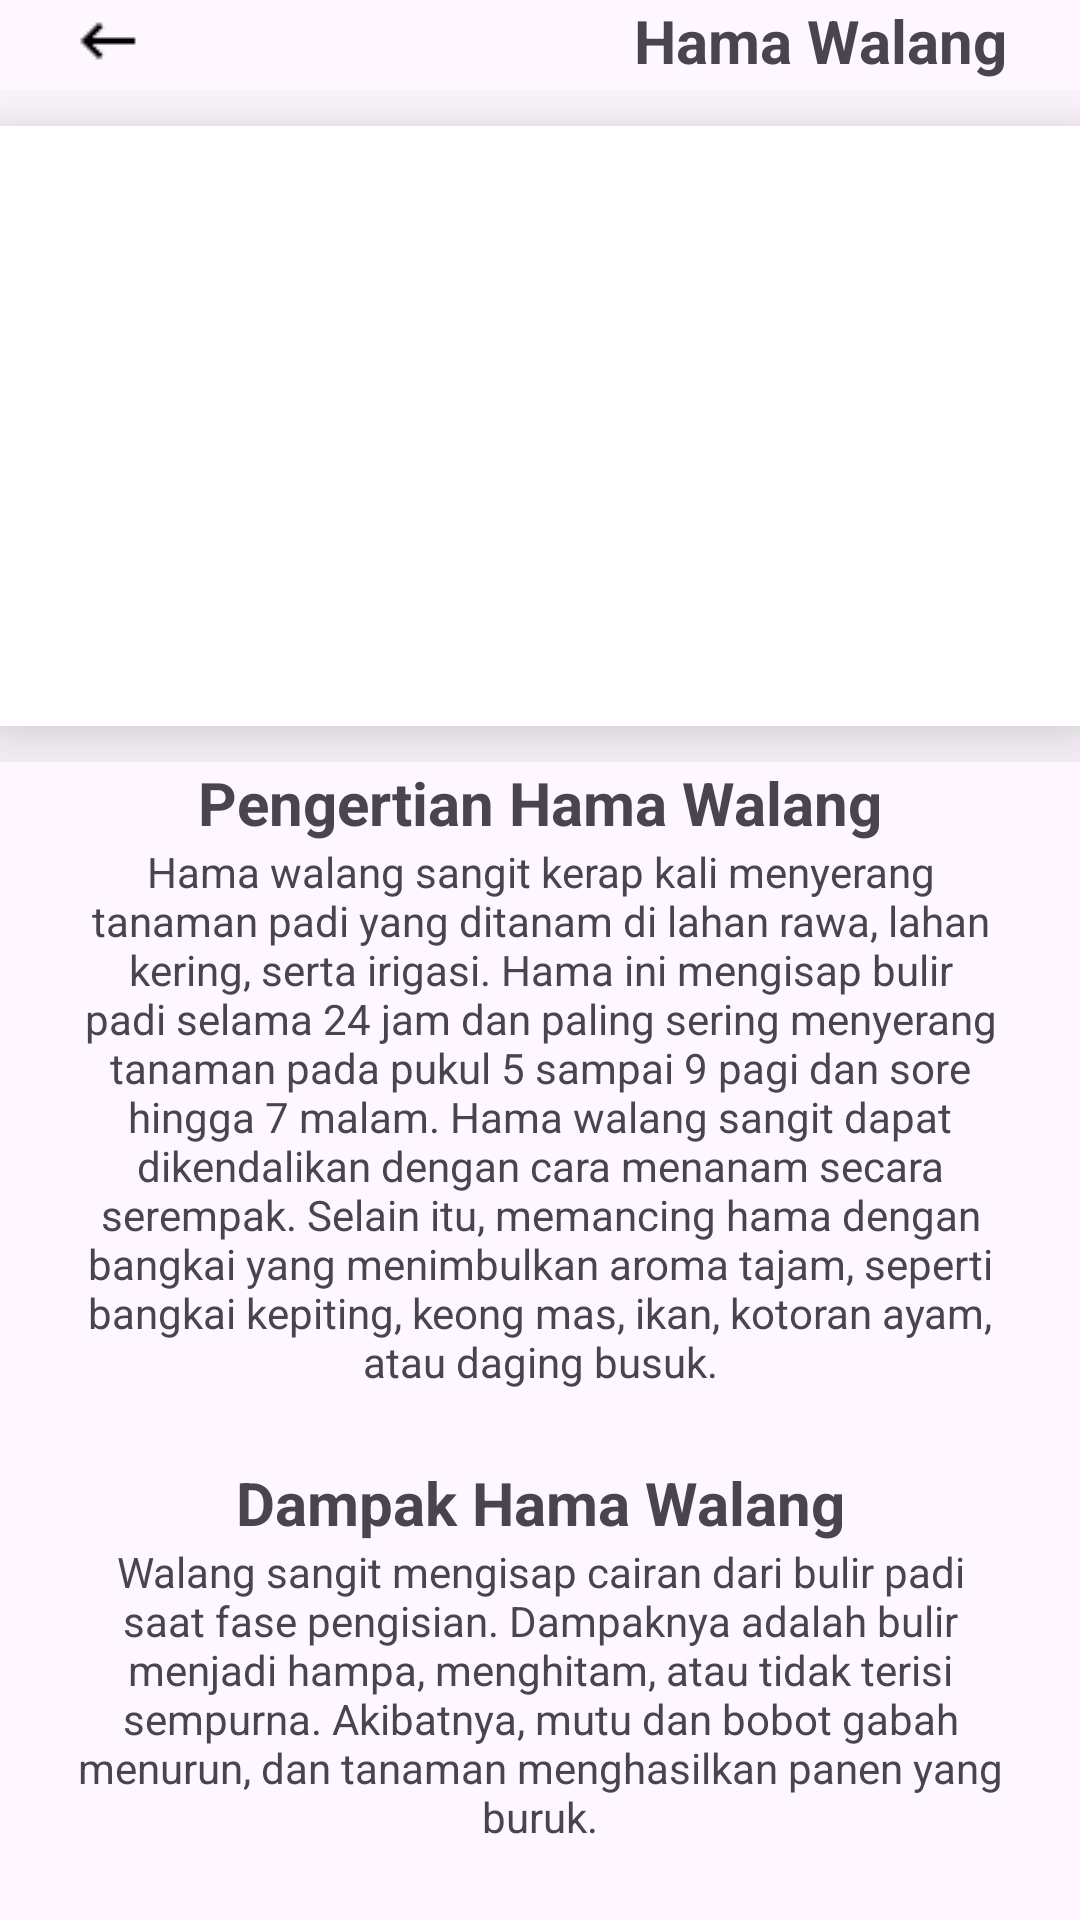

Icons on this 1080×1920 Android screen, each with the point to tap as point (x, y):
keyboard backspace: point (108, 41)
